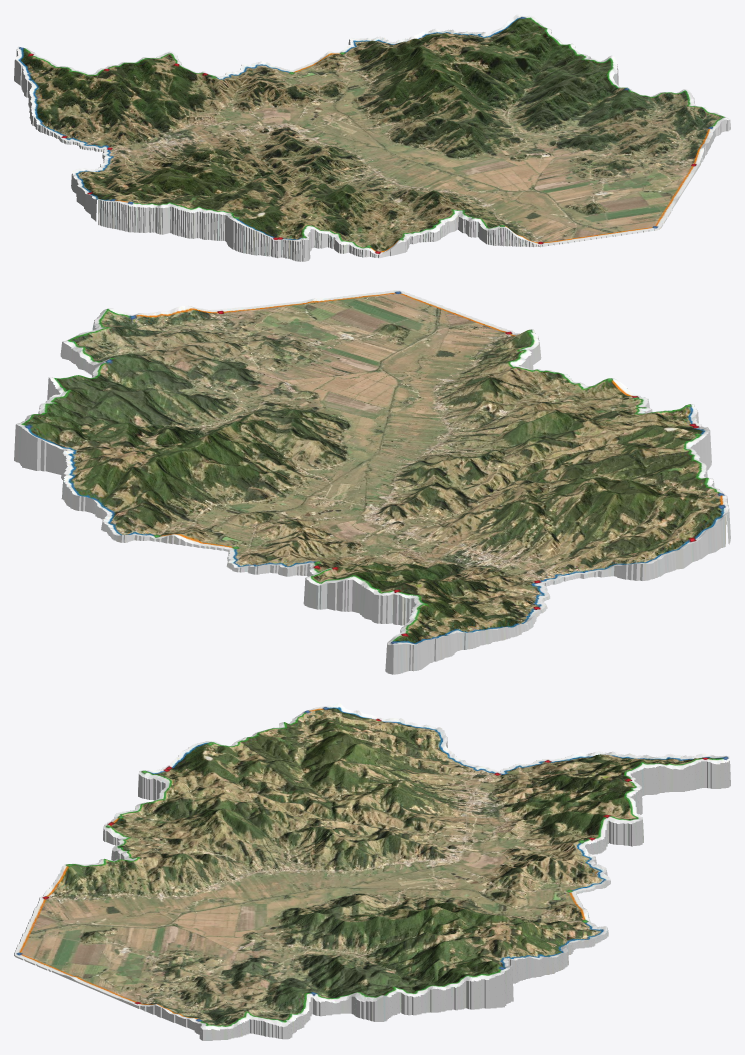
3 renders of one model, top to bottom at view 1: azimuth 30°, elevation 25°; view 2: azimuth 150°, elevation 25°; view 3: azimuth 270°, elevation 25°, orthographic. The views are drawn at different scales.
Size of the model in its own units: 0.9999 by 0.0526 by 0.9783.
1 material, 1 textured.
